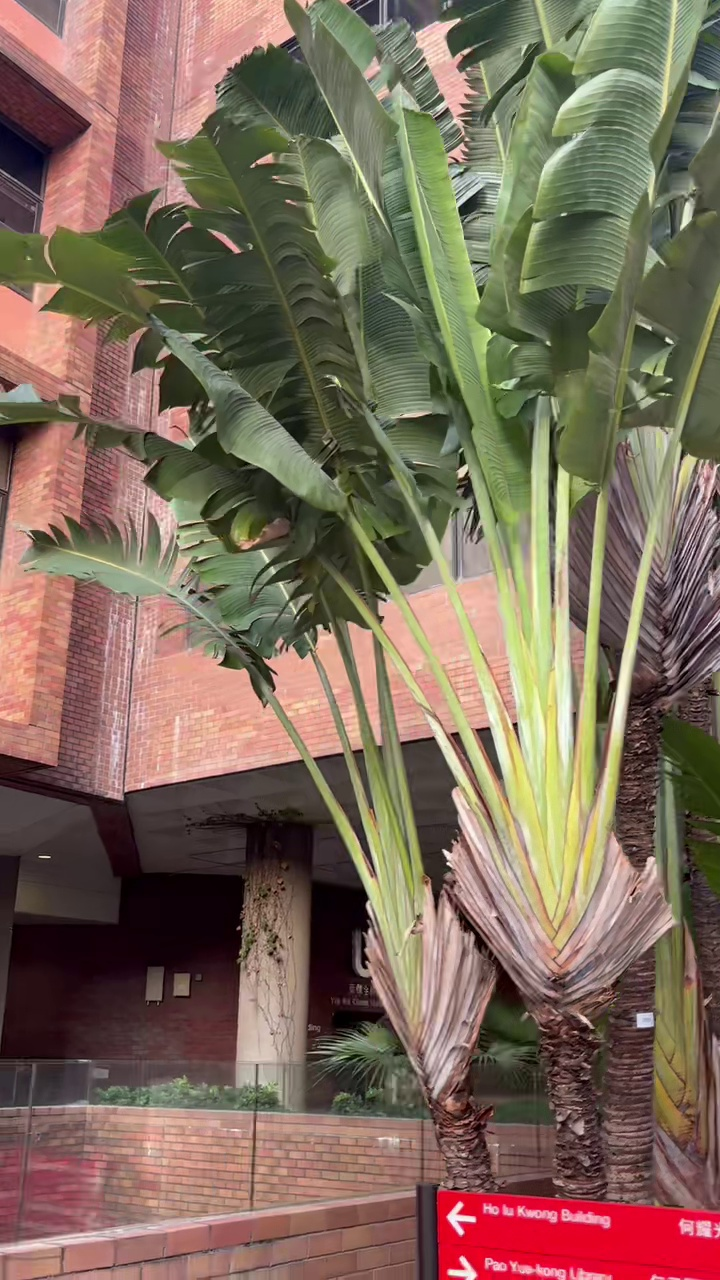Travellers-tree: (0, 0, 719, 1196)
